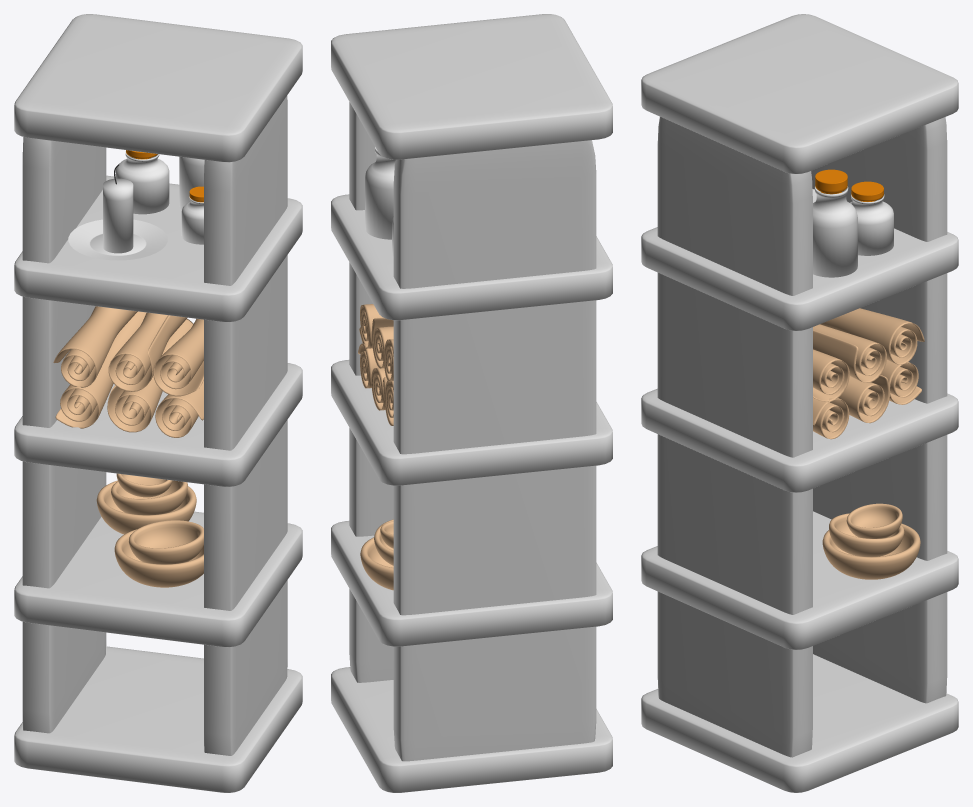
Rendered from tana_mahou.fbx.
3 renders of one model, left to right at view 1: azimuth 30°, elevation 25°; view 2: azimuth 150°, elevation 25°; view 3: azimuth 270°, elevation 25°, orthographic. The views are drawn at different scales.
Visible parts, largest first — view 1: Sphere.005; view 2: Sphere.005; view 3: Sphere.005.
Boxes of the visible parts, x1,y1,x2,y2 form: Sphere.005: (14,14,302,792); Sphere.005: (331,14,612,792); Sphere.005: (641,14,958,792).
Bounding box in the file's own units: 35.17 × 79.4 × 35.17.
